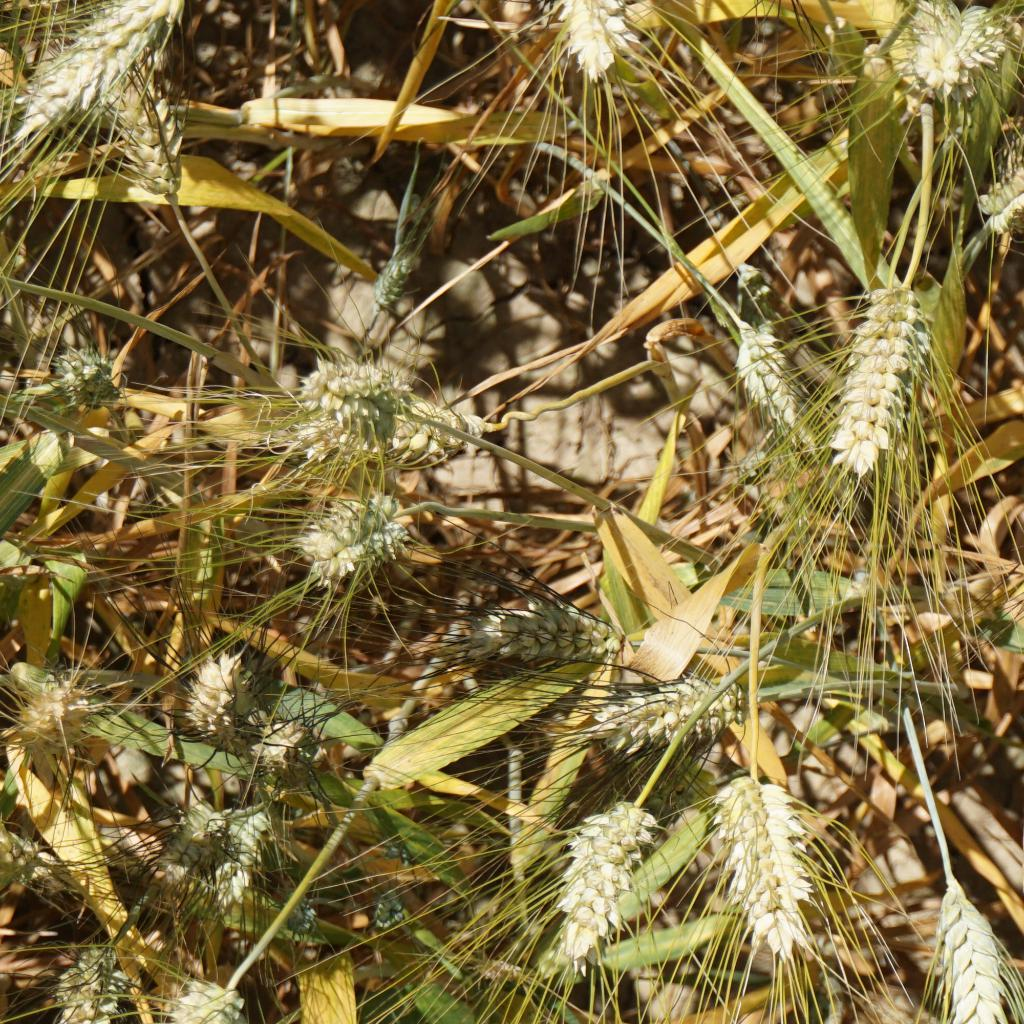0-0: (10, 0, 190, 158), (710, 774, 821, 968), (826, 280, 933, 480), (587, 661, 755, 769), (462, 584, 656, 677), (557, 798, 644, 974), (920, 875, 1019, 1024), (897, 0, 1018, 112), (295, 481, 411, 594), (292, 398, 471, 468), (111, 82, 195, 204), (9, 660, 111, 755), (43, 934, 132, 1024), (737, 322, 805, 431), (183, 653, 257, 750), (558, 0, 635, 86), (152, 792, 210, 900), (141, 970, 251, 1024), (49, 345, 129, 419), (0, 814, 68, 898), (302, 353, 400, 409), (732, 252, 786, 353), (970, 146, 1024, 243), (251, 707, 322, 777), (204, 843, 266, 901), (206, 809, 270, 862), (265, 880, 319, 938), (373, 252, 421, 317), (367, 885, 412, 933)
